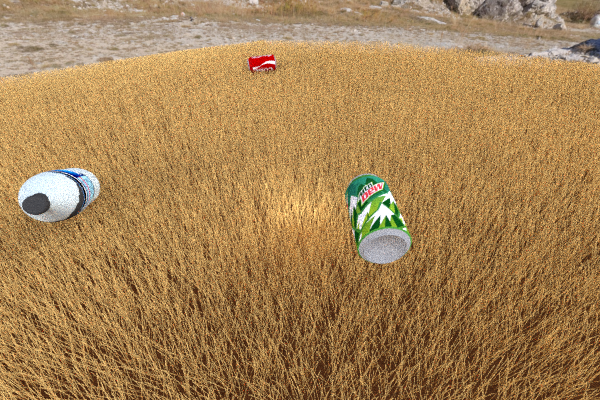bottle: (18, 168, 99, 222)
can: (344, 173, 411, 263), (247, 54, 276, 72)
